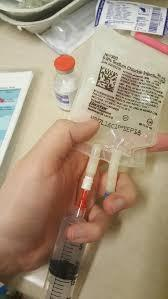Iv_Bottle: (54, 55, 77, 110)
Syringe: (46, 145, 100, 298)
